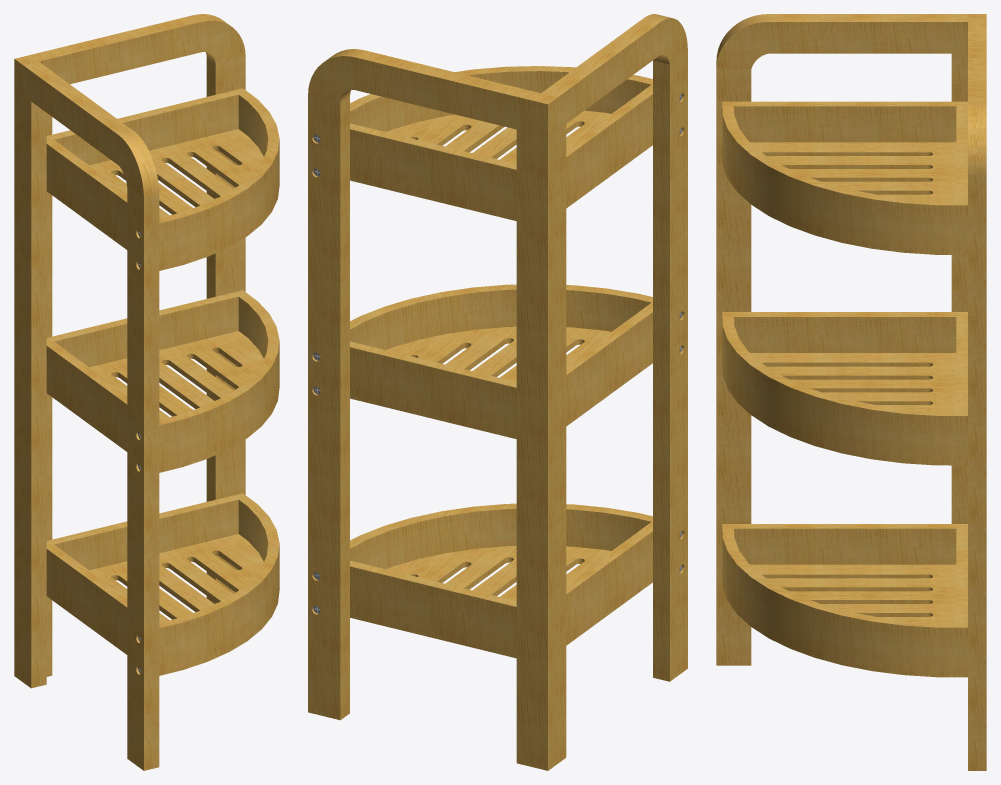
The model's file is selette_angle.glb.
3 views of the same model, side by side, from view 1: azimuth 30°, elevation 25°; view 2: azimuth 150°, elevation 25°; view 3: azimuth 270°, elevation 25° (orthographic). The views are drawn at different scales.
Parts seen in each view (by area): view 1: tablette_1#1, tablette_1#2, tablette_1, 27418, 27482, 28116, 27722, 27879; view 2: 27418, tablette_1#2, tablette_1#1, 27879, tablette_1, 27482, 28116, 27722; view 3: tablette_1, tablette_1#1, tablette_1#2, 27482, 27879, 27722, 28116, 27418.
Boxes of the visible parts, <box> form: tablette_1#1: <box>46,290,279,472</box>; tablette_1#2: <box>46,493,279,675</box>; tablette_1: <box>46,88,279,270</box>; 27418: <box>14,89,52,688</box>; 27482: <box>127,187,159,770</box>; 28116: <box>14,14,245,95</box>; 27722: <box>23,61,159,198</box>; 27879: <box>206,56,245,603</box>; 27418: <box>516,124,566,770</box>; tablette_1#2: <box>350,503,652,658</box>; tablette_1#1: <box>350,284,652,438</box>; 27879: <box>308,95,349,720</box>; tablette_1: <box>350,66,652,220</box>; 27482: <box>653,51,687,681</box>; 28116: <box>308,49,557,136</box>; 27722: <box>541,14,687,129</box>; tablette_1: <box>722,101,967,254</box>; tablette_1#1: <box>722,312,967,465</box>; tablette_1#2: <box>722,524,967,677</box>; 27482: <box>716,69,751,665</box>; 27879: <box>968,174,986,770</box>; 27722: <box>716,14,967,69</box>; 28116: <box>968,14,986,174</box>; 27418: <box>951,53,967,523</box>.
Bounding box in the file's own units: 0.2299 × 0.61 × 0.232.
Materials: 1380 (1380 with a texture image).
